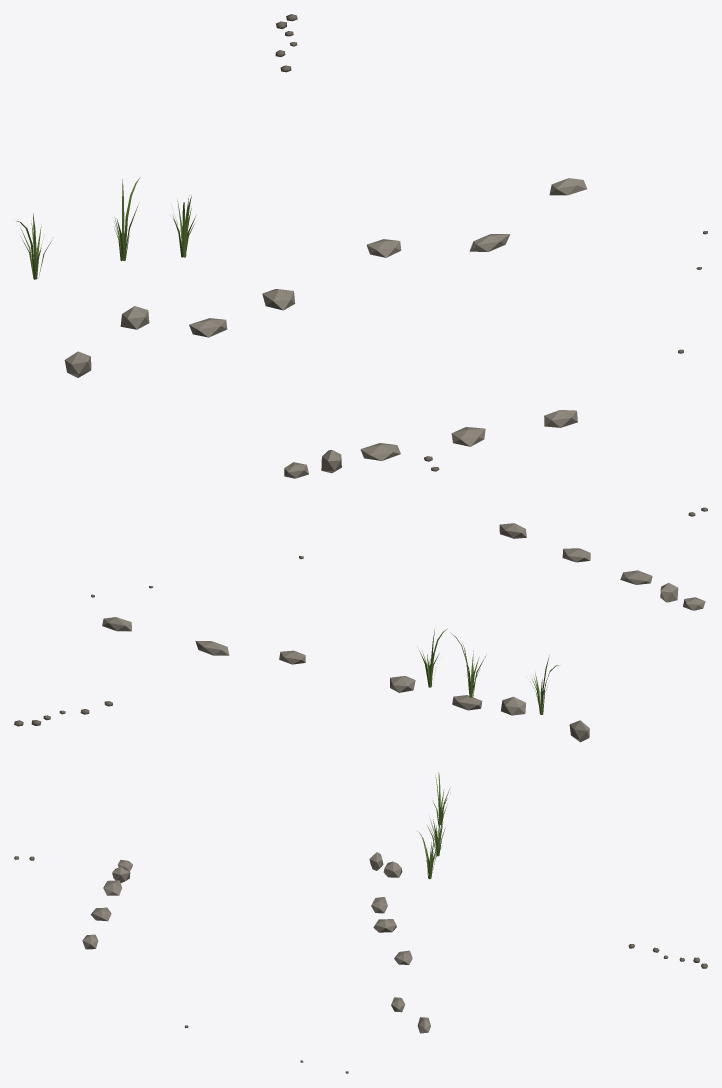
Rendered from river_mouth_center.glb.
The picture shows the model from 3 angles, top to bottom: view 1: azimuth 30°, elevation 25°; view 2: azimuth 150°, elevation 25°; view 3: azimuth 270°, elevation 25°; orthographic projection. The views are drawn at different scales.
Visible parts, largest first — view 1: river_mouth_center_lod0; view 2: river_mouth_center_lod0; view 3: river_mouth_center_lod0.
Boxes of the visible parts, <box> form: river_mouth_center_lod0: <box>16,14,707,478</box>; river_mouth_center_lod0: <box>14,507,707,742</box>; river_mouth_center_lod0: <box>14,772,707,1073</box>.
Size of what is drawn, in the model's own units: 15.87 by 3.43 by 21.32.
